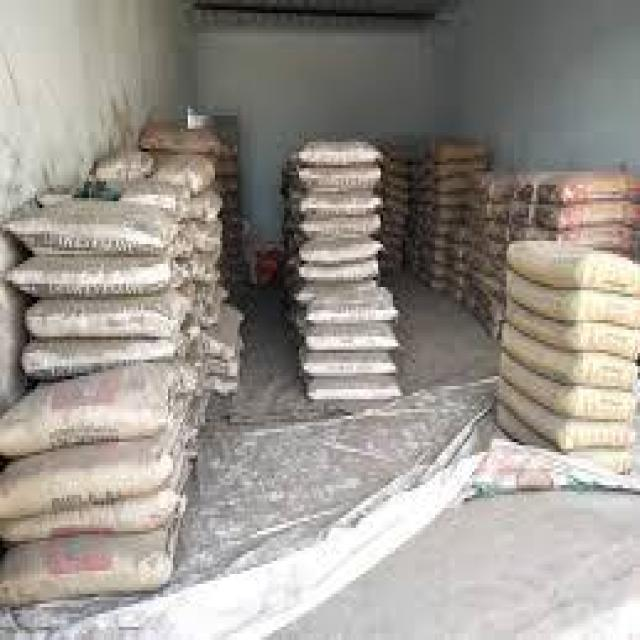gunny_bag: (0, 394, 191, 523), (0, 491, 187, 612), (0, 359, 179, 459), (1, 455, 187, 542), (493, 398, 635, 486), (2, 190, 186, 255), (496, 373, 634, 451), (498, 348, 637, 420), (500, 319, 640, 389), (22, 282, 192, 337), (504, 266, 640, 330), (19, 327, 186, 379), (503, 295, 640, 358), (504, 236, 640, 295), (3, 254, 189, 297), (535, 168, 640, 204), (536, 200, 640, 228), (293, 134, 385, 165), (301, 323, 402, 351), (303, 299, 402, 326), (300, 350, 399, 375), (293, 163, 384, 190), (293, 211, 383, 238), (302, 378, 403, 402), (295, 237, 387, 263), (292, 191, 386, 215), (294, 257, 383, 282), (428, 138, 490, 162), (430, 157, 491, 180), (418, 266, 453, 292), (432, 173, 472, 193), (430, 203, 464, 224), (430, 189, 468, 206), (421, 257, 451, 278), (427, 218, 455, 238), (422, 245, 450, 263), (426, 232, 451, 250)
